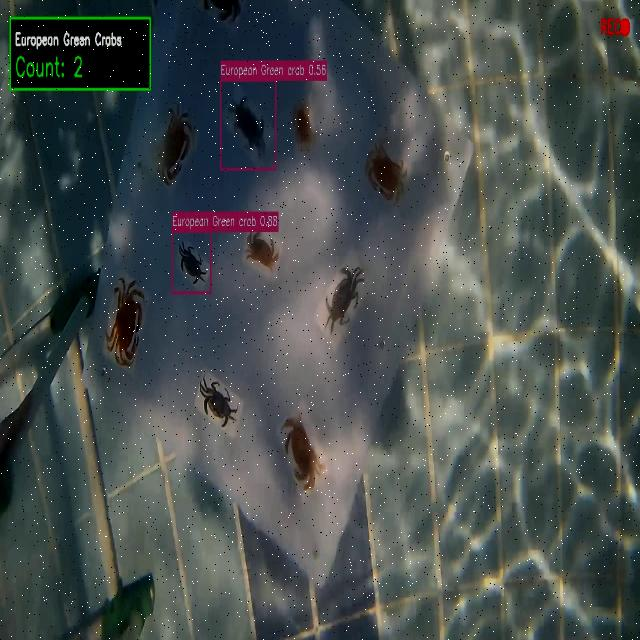European_Green_Crab: (315, 258, 375, 349), (222, 85, 276, 166), (193, 371, 244, 437), (173, 236, 211, 293)
